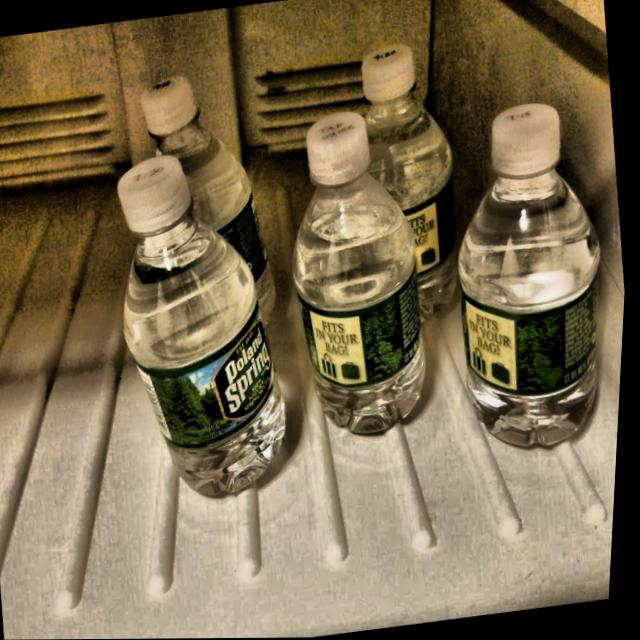Bottles: (86, 133, 317, 509), (426, 83, 636, 475), (265, 91, 460, 455), (118, 54, 289, 313), (337, 40, 479, 317)
